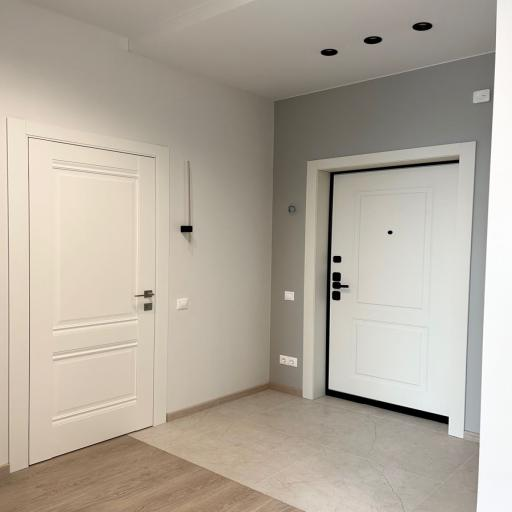corridor: (3, 110, 182, 483), (299, 134, 482, 444)
curb: (0, 0, 512, 512)
